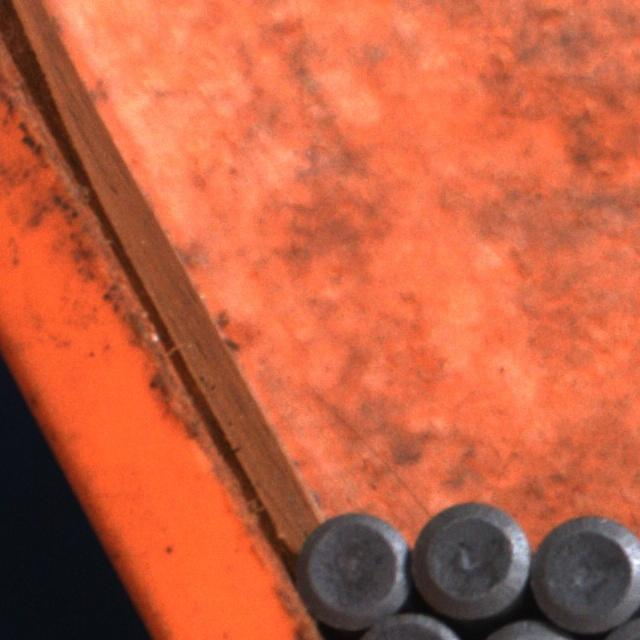tool: (409, 492, 533, 620), (528, 508, 640, 634), (298, 506, 410, 631)
